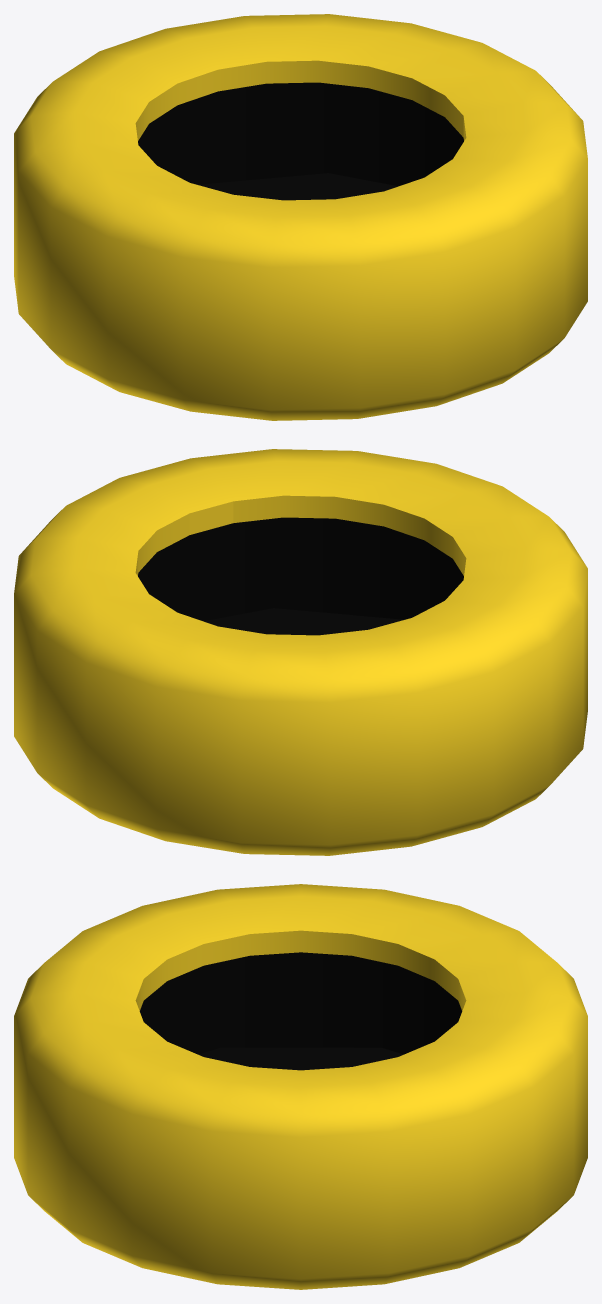
File: prop_tyre_1x1_B.FBX
The picture shows the model from 3 angles, top to bottom: view 1: azimuth 30°, elevation 25°; view 2: azimuth 150°, elevation 25°; view 3: azimuth 270°, elevation 25°; orthographic projection.
Parts seen in each view (by area): view 1: prop_tyre_1; view 2: prop_tyre_1; view 3: prop_tyre_1.
Part boxes in pixels (left/top/right/bottom): prop_tyre_1: left=14, top=14, right=587, bottom=420; prop_tyre_1: left=14, top=449, right=587, bottom=855; prop_tyre_1: left=14, top=884, right=587, bottom=1289.
Size of the model in its own units: 33.16 by 12.12 by 33.16.
Materials: 1 (1 with a texture image).
